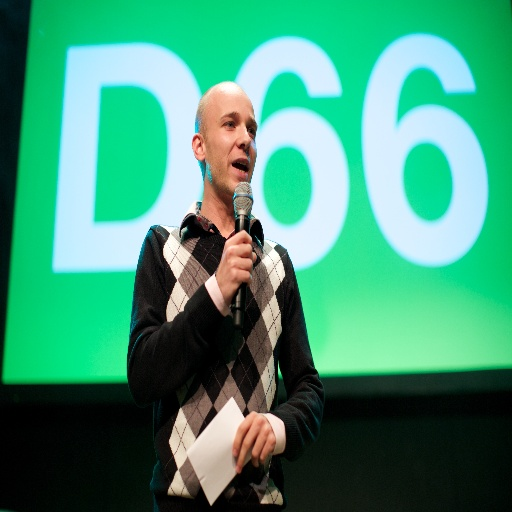hand: (215, 226, 258, 307), (229, 412, 283, 473)
